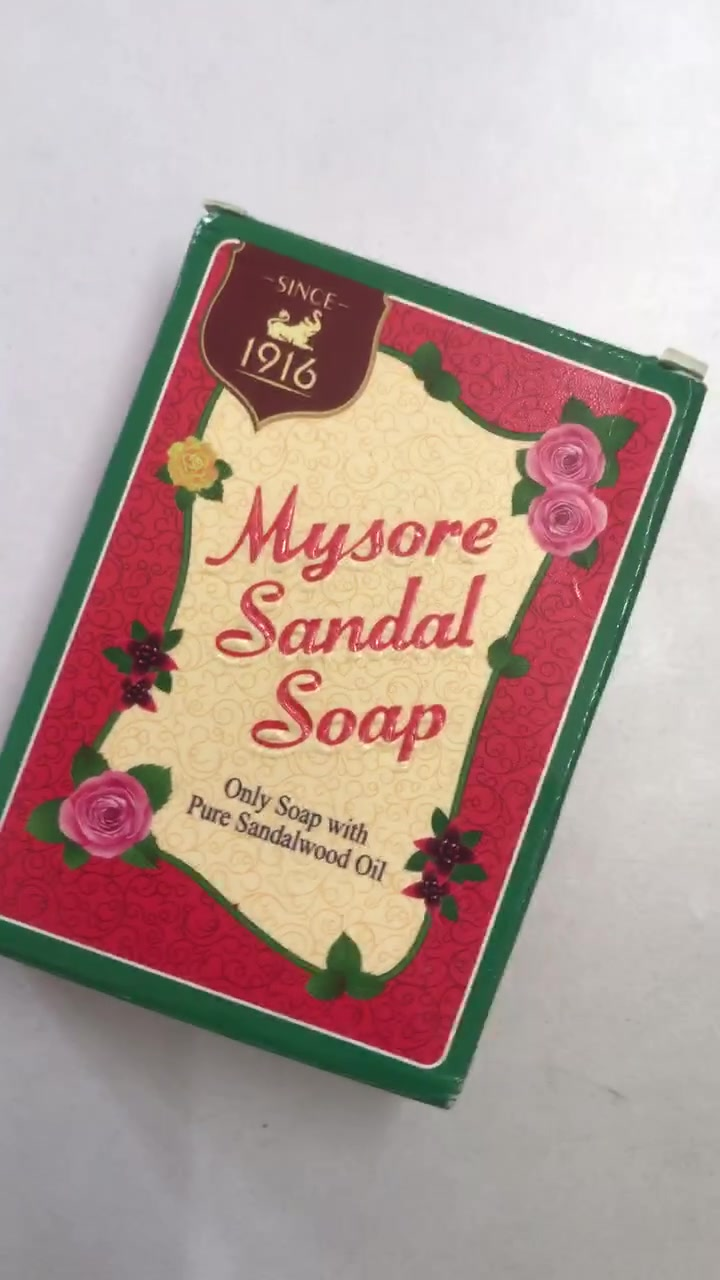mysore sandal soap: (6, 200, 703, 1110)
